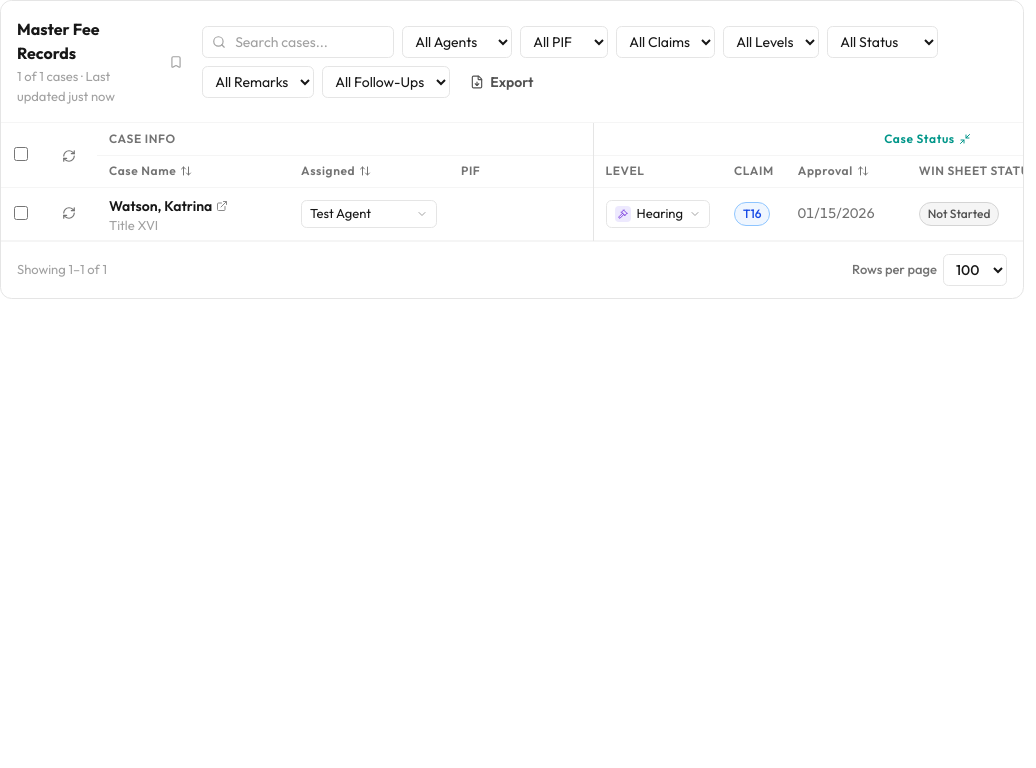
Test: FeeRecordsTable — Add to Fee Petitions batch action › is available to a lead, without the admin-only actions
Click the checkbox named "Select Watson, Katrina": (21, 212) x1=14 y1=206 x2=28 y2=220
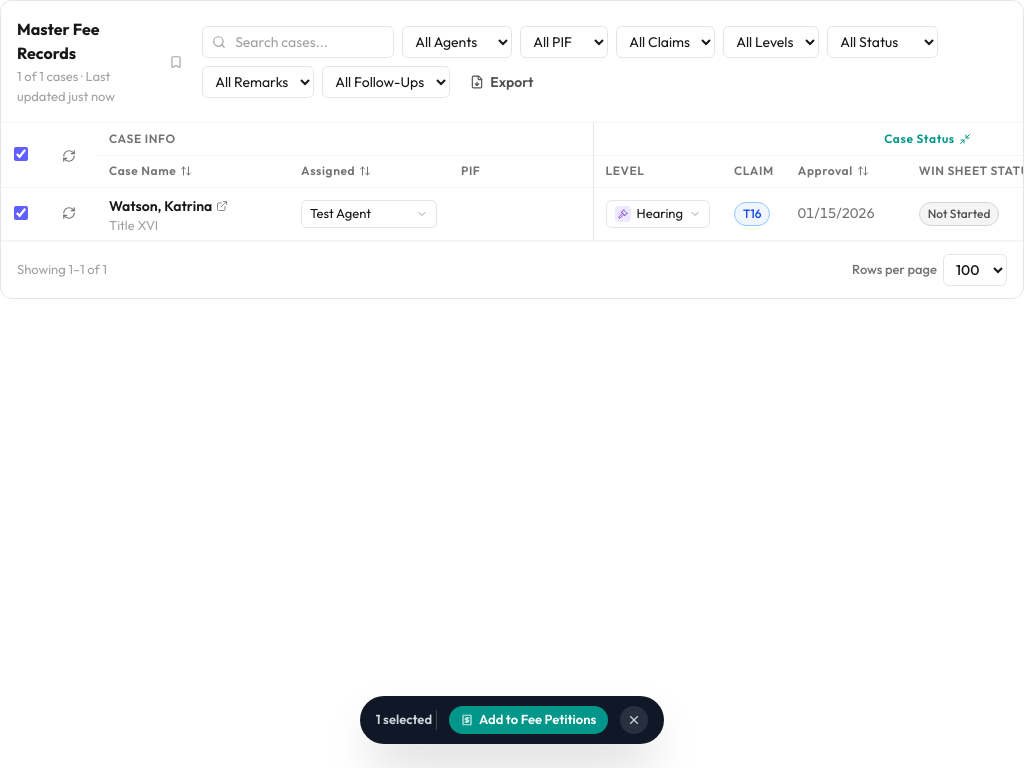
Result: the button "Add to Fee Petitions" is shown at x1=449 y1=706 x2=608 y2=734
